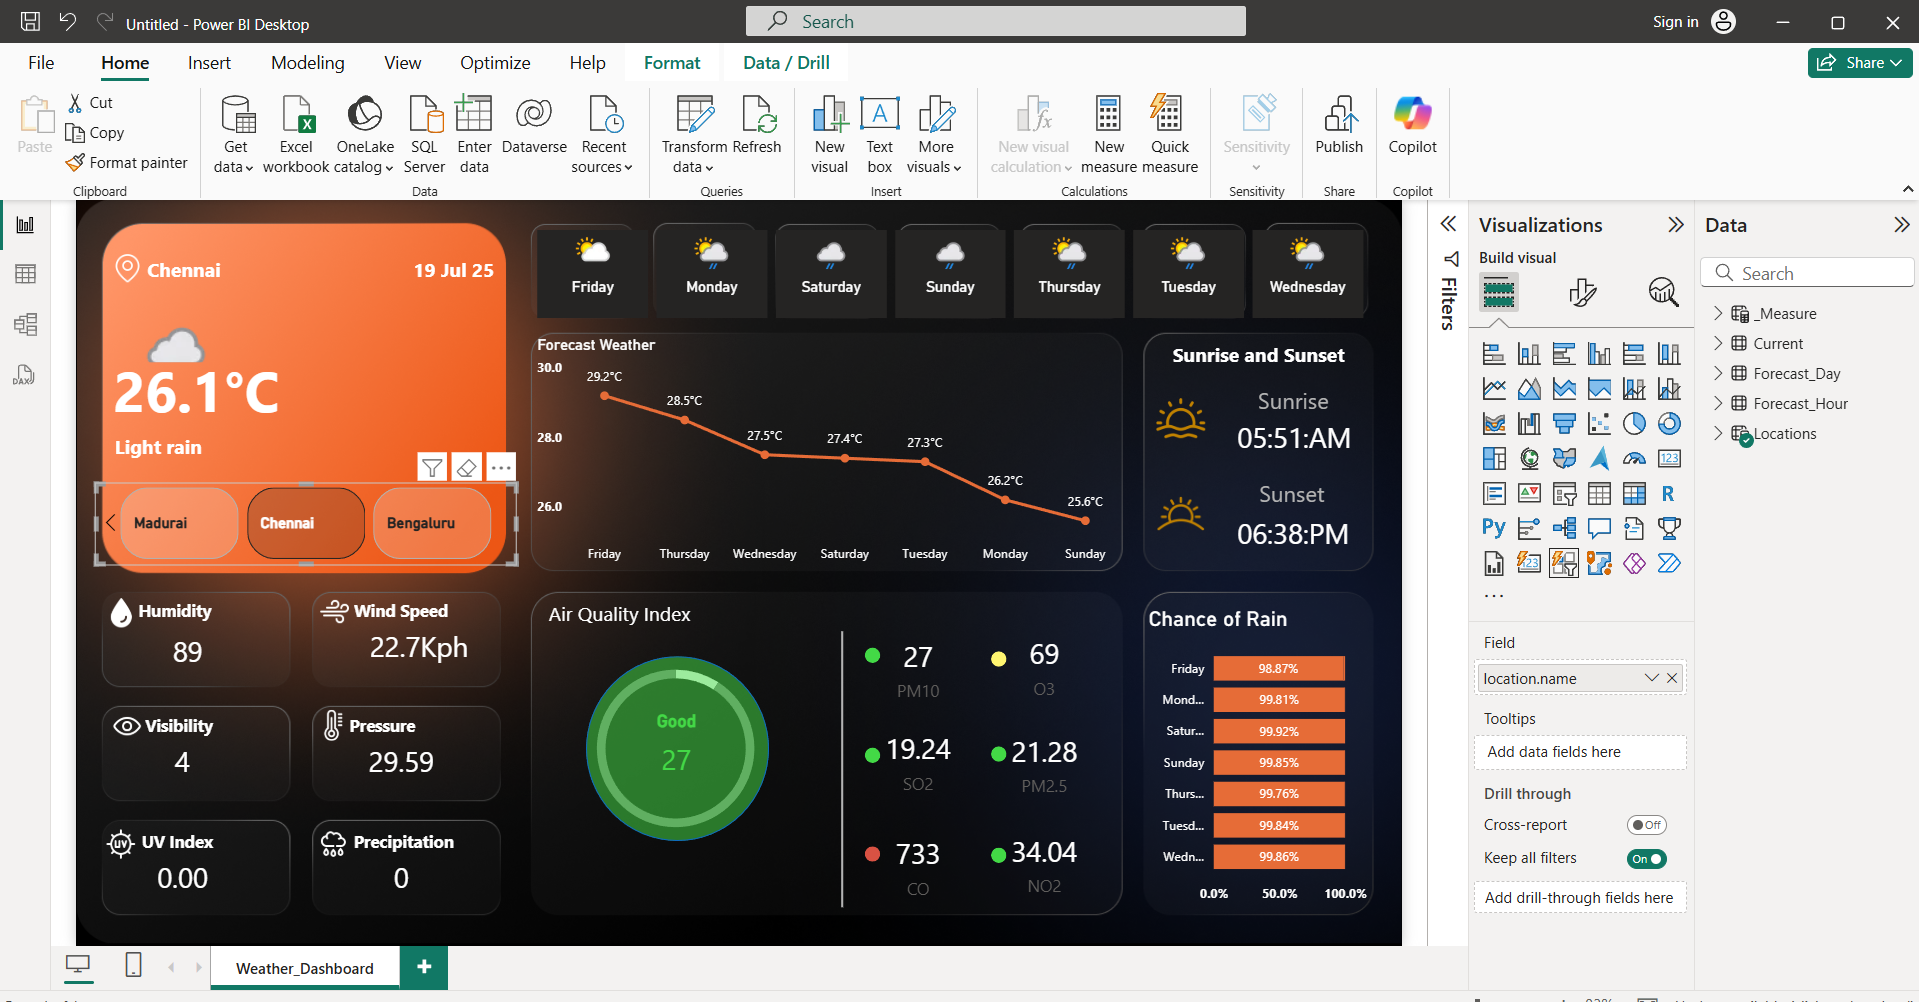

Layout of this report page (visuals, bound fields, positions):
{"tool":"powerbi","page":{"name":"Weather_Dashboard","canvas":[1280,720],"ordinal":0},"visuals":[{"type":"donutChart","fields":{"Y":["Sum(Current.current.air_quality.pm10)","_Measure.Left_value_PM10"]},"box":[468.3,430,221.7,200],"z":0},{"type":"shape","box":[491.7,440,176.7,178.3],"z":1000},{"type":"advancedSlicerVisual","fields":{"Values":["Locations.location.name"]},"box":[17.9,273.1,408.1,79.7],"z":2000},{"type":"shape","box":[35.8,126.8,190.2,110.6],"z":3000},{"type":"shape","box":[37,217.2,188.1,41.3],"z":4000},{"type":"shape","box":[68.3,45.5,188.6,40.6],"z":5000},{"type":"shape","box":[250.4,45.5,152.8,40.6],"z":6000},{"type":"image","box":[30.9,45.5,37.4,40.6],"z":7000},{"type":"cardVisual","fields":{"Data":["Min(Current.current.condition.icon)"]},"box":[35.8,86.2,95.9,76.4],"z":8000},{"type":"image","box":[24.4,487.7,50.4,40.6],"z":9000},{"type":"image","box":[222.7,601.5,50.4,39],"z":10000},{"type":"image","box":[17.9,601.5,50.4,39],"z":11000},{"type":"image","box":[224.4,377.2,50.4,39],"z":12000},{"type":"image","box":[19.5,378.8,48.8,39],"z":13000},{"type":"image","box":[222.7,487.7,50.4,39],"z":14000},{"type":"textbox","box":[43.9,380.4,104,37.4],"z":15000},{"type":"textbox","box":[248.7,380.4,115.4,37.4],"z":16000},{"type":"textbox","box":[50.4,491,97.5,37.4],"z":17000},{"type":"textbox","box":[250.4,491,89.4,37.4],"z":18000},{"type":"textbox","box":[48.8,603.2,99.2,37.4],"z":19000},{"type":"textbox","box":[263.4,603.2,123.6,37.4],"z":20000},{"type":"card","fields":{"Values":["Sum(Current.current.humidity)"]},"box":[68.3,400,78.3,71.7],"z":21000},{"type":"card","fields":{"Values":["_Measure.Wind_Speed"]},"box":[274.8,399.9,112.2,65],"z":22000},{"type":"card","fields":{"Values":["Sum(Current.current.pressure_in)"]},"box":[274.8,510.5,78,65],"z":23000},{"type":"card","fields":{"Values":["Sum(Current.current.vis_km)"]},"box":[63.4,510.5,78,65],"z":24000},{"type":"card","fields":{"Values":["Sum(Current.current.uv)"]},"box":[63.4,622.7,78,65],"z":25000},{"type":"card","fields":{"Values":["Sum(Current.current.precip_mm)"]},"box":[274.8,622.7,78,65],"z":26000},{"type":"advancedSlicerVisual","fields":{"Values":["Forecast_Day.Day_Name"]},"box":[440.6,24.4,811.3,95.9],"z":27000},{"type":"lineChart","title":"Forecast Weather","fields":{"Y":["Sum(Forecast_Day.forecast.forecastday.day.avgtemp_c)"],"Category":["Forecast_Day.Day_Name"]},"box":[440,131.7,570,228.3],"z":28000},{"type":"textbox","box":[1031.7,131.7,220,50],"z":29000},{"type":"shape","box":[1120.8,209.9,136.3,37.4],"z":30000},{"type":"shape","box":[1120.6,303.3,136.7,36.7],"z":31000},{"type":"textbox","box":[1120.6,173.3,108.3,53.3],"z":32000},{"type":"textbox","box":[1078.9,263.3,190,58.3],"z":33000},{"type":"image","box":[1031.7,268.3,70,70],"z":34000},{"type":"image","box":[1031.7,181.7,70,56.7],"z":35000},{"type":"textbox","box":[451.7,381.7,220,50],"z":36000},{"type":"card","fields":{"Values":["Sum(Current.current.air_quality.pm10)"]},"box":[761.7,416.7,103.3,71.7],"z":37000},{"type":"card","fields":{"Values":["Sum(Current.current.air_quality.pm2_5)"]},"box":[883.3,505,103.3,76.7],"z":38000},{"type":"card","fields":{"Values":["Sum(Current.current.air_quality.no2)"]},"box":[883.3,601.7,103.3,76.7],"z":39000},{"type":"card","fields":{"Values":["Sum(Current.current.air_quality.o3)"]},"box":[883.3,411.7,103.3,76.7],"z":40000},{"type":"card","fields":{"Values":["Sum(Current.current.air_quality.so2)"]},"box":[761.1,505,103.3,71.7],"z":41000},{"type":"card","fields":{"Values":["Sum(Current.current.air_quality.co)"]},"box":[761.1,606.7,103.3,71.7],"z":42000},{"type":"shape","box":[761.1,431.7,15,15],"z":43000},{"type":"shape","box":[761.1,623.3,15,15],"z":44000},{"type":"shape","box":[761.1,528.3,15,15],"z":45000},{"type":"shape","box":[883.3,435,15,15],"z":46000},{"type":"shape","box":[883.3,526.7,15,15],"z":47000},{"type":"shape","box":[883.3,625,15,15],"z":48000},{"type":"shape","box":[718.3,416.7,43.3,266.7],"z":49000},{"type":"card","fields":{"Values":["Sum(Current.current.air_quality.pm10)"]},"box":[518.3,491.7,121.7,78.3],"z":50000},{"type":"hundredPercentStackedBarChart","title":"Chance of Rain","fields":{"Category":["Forecast_Day.Day_Name"],"Y":["Sum(Forecast_Hour.forecast.forecastday.hour.chance_of_rain)","_Measure.Left_value_Rain"]},"box":[1030.3,392.1,220.8,295.6],"z":51000}]}

Visuals, with their boxes on the page's 1280x720 design canvas (x1, y1, x2, y2). These are canvas units, not pixel positions in the 1919x1002 screenshot, which may show the page scaled, cropped or inside an application window:
donutChart - Sum(Current.current.air_quality.pm10) x _Measure.Left_value_PM10: {"x1": 468, "y1": 430, "x2": 690, "y2": 630}
shape: {"x1": 492, "y1": 440, "x2": 668, "y2": 618}
advancedSlicerVisual - Locations.location.name: {"x1": 18, "y1": 273, "x2": 426, "y2": 353}
shape: {"x1": 36, "y1": 127, "x2": 226, "y2": 237}
shape: {"x1": 37, "y1": 217, "x2": 225, "y2": 258}
shape: {"x1": 68, "y1": 46, "x2": 257, "y2": 86}
shape: {"x1": 250, "y1": 46, "x2": 403, "y2": 86}
image: {"x1": 31, "y1": 46, "x2": 68, "y2": 86}
cardVisual - Min(Current.current.condition.icon): {"x1": 36, "y1": 86, "x2": 132, "y2": 163}
image: {"x1": 24, "y1": 488, "x2": 75, "y2": 528}
image: {"x1": 223, "y1": 602, "x2": 273, "y2": 640}
image: {"x1": 18, "y1": 602, "x2": 68, "y2": 640}
image: {"x1": 224, "y1": 377, "x2": 275, "y2": 416}
image: {"x1": 20, "y1": 379, "x2": 68, "y2": 418}
image: {"x1": 223, "y1": 488, "x2": 273, "y2": 527}
textbox: {"x1": 44, "y1": 380, "x2": 148, "y2": 418}
textbox: {"x1": 249, "y1": 380, "x2": 364, "y2": 418}
textbox: {"x1": 50, "y1": 491, "x2": 148, "y2": 528}
textbox: {"x1": 250, "y1": 491, "x2": 340, "y2": 528}
textbox: {"x1": 49, "y1": 603, "x2": 148, "y2": 641}
textbox: {"x1": 263, "y1": 603, "x2": 387, "y2": 641}
card - Sum(Current.current.humidity): {"x1": 68, "y1": 400, "x2": 147, "y2": 472}
card - _Measure.Wind_Speed: {"x1": 275, "y1": 400, "x2": 387, "y2": 465}
card - Sum(Current.current.pressure_in): {"x1": 275, "y1": 510, "x2": 353, "y2": 576}
card - Sum(Current.current.vis_km): {"x1": 63, "y1": 510, "x2": 141, "y2": 576}
card - Sum(Current.current.uv): {"x1": 63, "y1": 623, "x2": 141, "y2": 688}
card - Sum(Current.current.precip_mm): {"x1": 275, "y1": 623, "x2": 353, "y2": 688}
advancedSlicerVisual - Forecast_Day.Day_Name: {"x1": 441, "y1": 24, "x2": 1252, "y2": 120}
"Forecast Weather" lineChart: {"x1": 440, "y1": 132, "x2": 1010, "y2": 360}
textbox: {"x1": 1032, "y1": 132, "x2": 1252, "y2": 182}
shape: {"x1": 1121, "y1": 210, "x2": 1257, "y2": 247}
shape: {"x1": 1121, "y1": 303, "x2": 1257, "y2": 340}
textbox: {"x1": 1121, "y1": 173, "x2": 1229, "y2": 227}
textbox: {"x1": 1079, "y1": 263, "x2": 1269, "y2": 322}
image: {"x1": 1032, "y1": 268, "x2": 1102, "y2": 338}
image: {"x1": 1032, "y1": 182, "x2": 1102, "y2": 238}
textbox: {"x1": 452, "y1": 382, "x2": 672, "y2": 432}
card - Sum(Current.current.air_quality.pm10): {"x1": 762, "y1": 417, "x2": 865, "y2": 488}
card - Sum(Current.current.air_quality.pm2_5): {"x1": 883, "y1": 505, "x2": 987, "y2": 582}
card - Sum(Current.current.air_quality.no2): {"x1": 883, "y1": 602, "x2": 987, "y2": 678}
card - Sum(Current.current.air_quality.o3): {"x1": 883, "y1": 412, "x2": 987, "y2": 488}
card - Sum(Current.current.air_quality.so2): {"x1": 761, "y1": 505, "x2": 864, "y2": 577}
card - Sum(Current.current.air_quality.co): {"x1": 761, "y1": 607, "x2": 864, "y2": 678}
shape: {"x1": 761, "y1": 432, "x2": 776, "y2": 447}
shape: {"x1": 761, "y1": 623, "x2": 776, "y2": 638}
shape: {"x1": 761, "y1": 528, "x2": 776, "y2": 543}
shape: {"x1": 883, "y1": 435, "x2": 898, "y2": 450}
shape: {"x1": 883, "y1": 527, "x2": 898, "y2": 542}
shape: {"x1": 883, "y1": 625, "x2": 898, "y2": 640}
shape: {"x1": 718, "y1": 417, "x2": 762, "y2": 683}
card - Sum(Current.current.air_quality.pm10): {"x1": 518, "y1": 492, "x2": 640, "y2": 570}
"Chance of Rain" hundredPercentStackedBarChart: {"x1": 1030, "y1": 392, "x2": 1251, "y2": 688}
